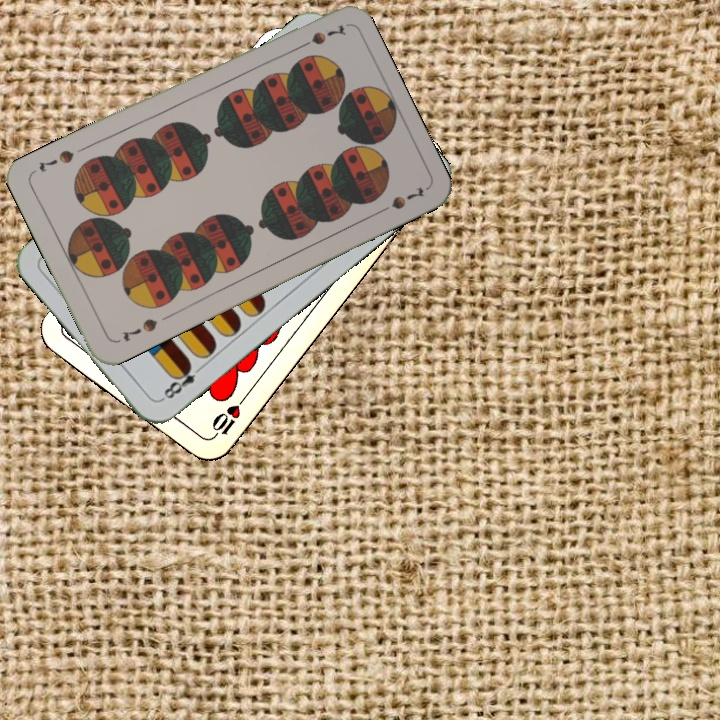E8: (157, 359, 207, 403)
H10: (207, 392, 249, 442)
S7: (291, 20, 348, 53), (118, 314, 160, 345)
